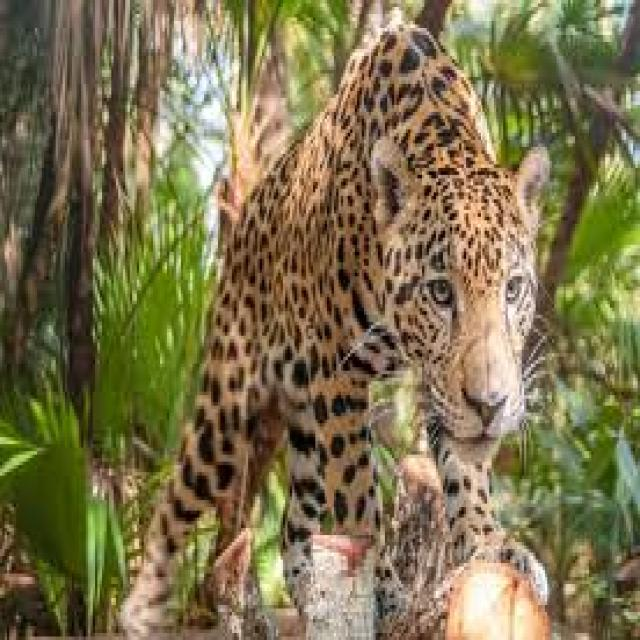Jaguar: (118, 21, 552, 640)
